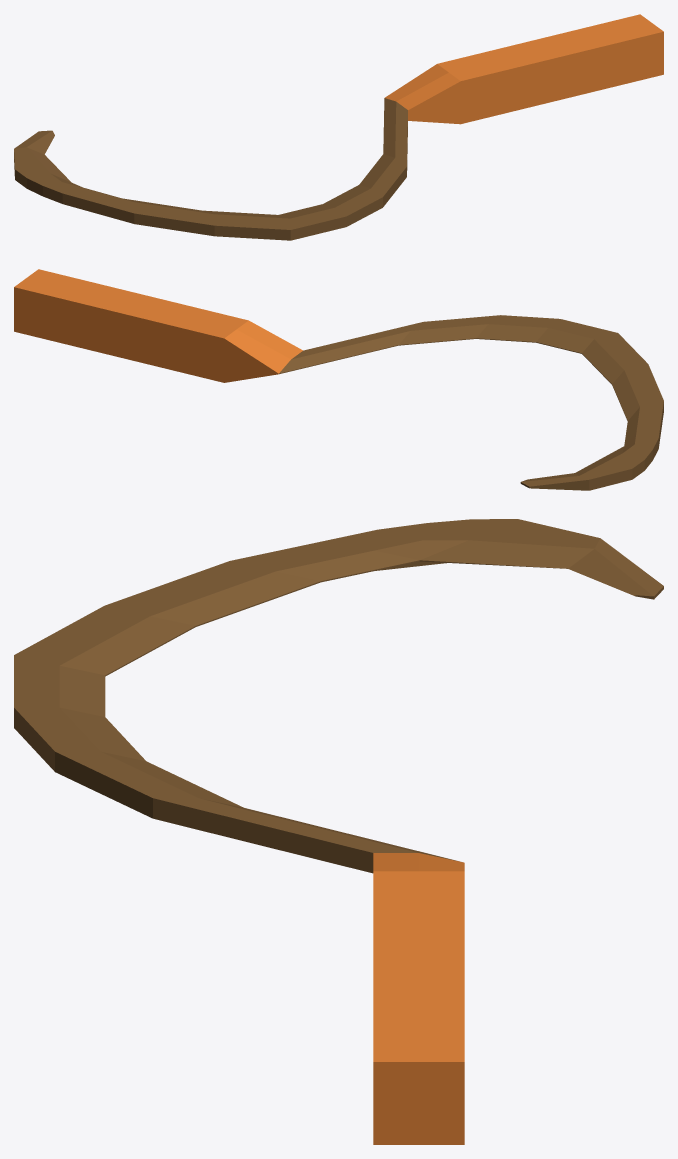
The model's file is bronze_sicle.glb.
The picture shows the model from 3 angles, top to bottom: view 1: azimuth 30°, elevation 25°; view 2: azimuth 150°, elevation 25°; view 3: azimuth 270°, elevation 25°; orthographic projection. The views are drawn at different scales.
Visible parts, largest first — view 1: Cube; view 2: Cube; view 3: Cube.
Part boxes in pixels (x1,y1,x2,y2): Cube: (14,14,663,240); Cube: (14,269,663,490); Cube: (14,519,663,1144).
Size of the model in its own units: 11.6 by 0.7803 by 5.55.
